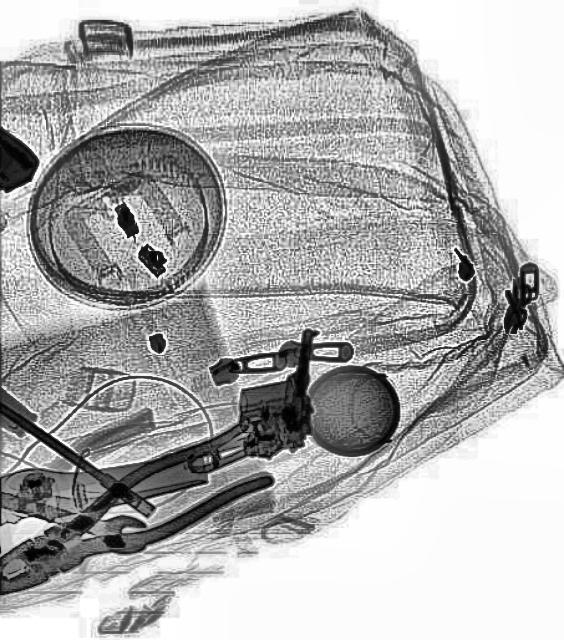Gun: (186, 324, 316, 474)
Pliers: (0, 414, 276, 602)
Wrench: (0, 479, 152, 559)
